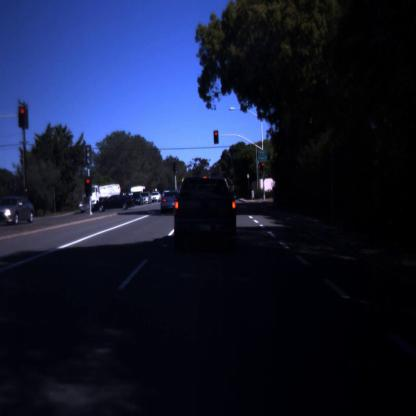trafficlight: (17, 102, 30, 131), (213, 130, 222, 146), (86, 176, 92, 198), (260, 160, 266, 176)
